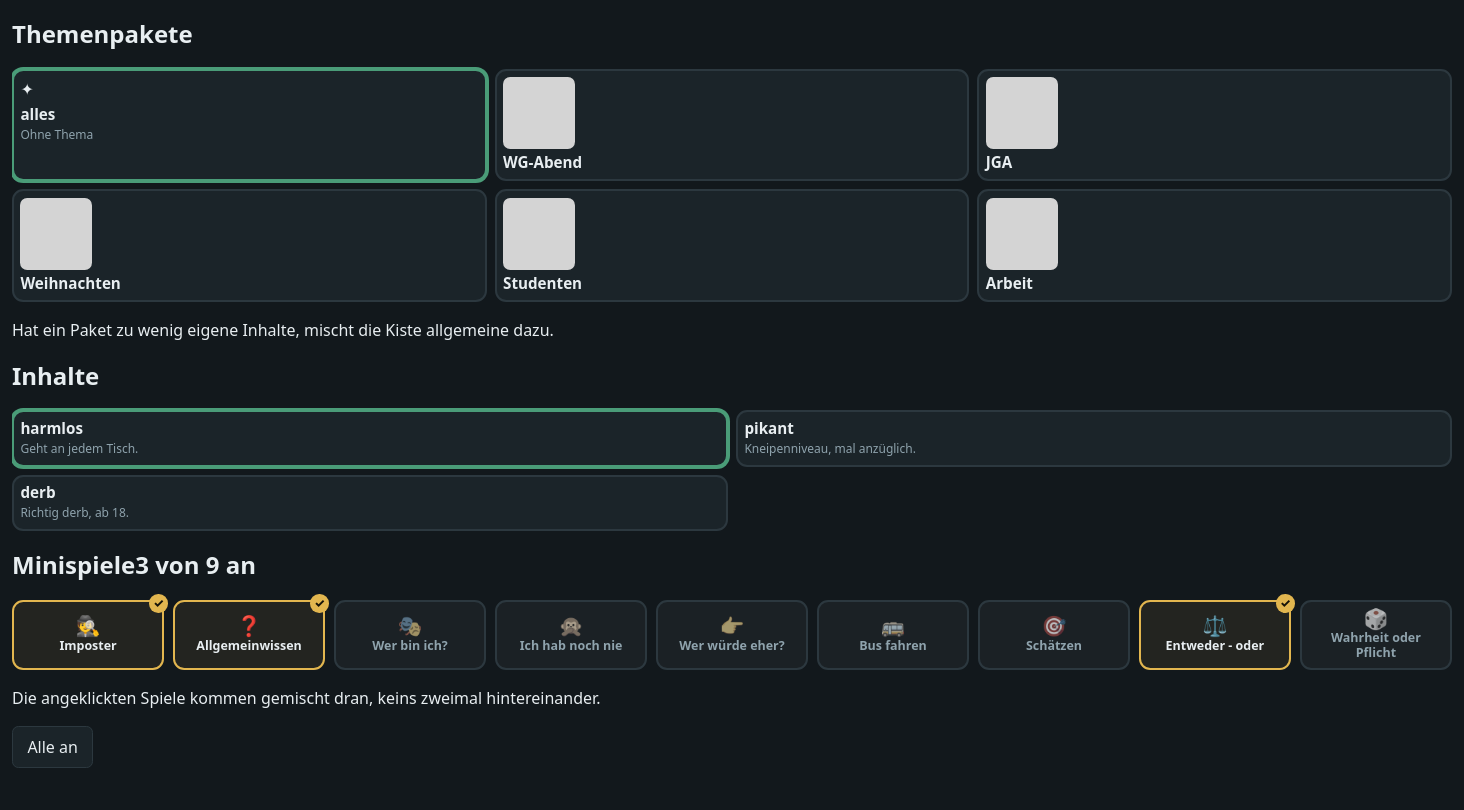
Auswahl im Menue der Partykiste › im neuen Hub bleibt unter drei die Kachel an, ein Hinweis sagt warum
Check: the element named "Minispiele" is shown, box [12,600,1452,670]
Click the button "❓ Allgemeinwissen ✓" at (249, 635), box [173,600,325,670]
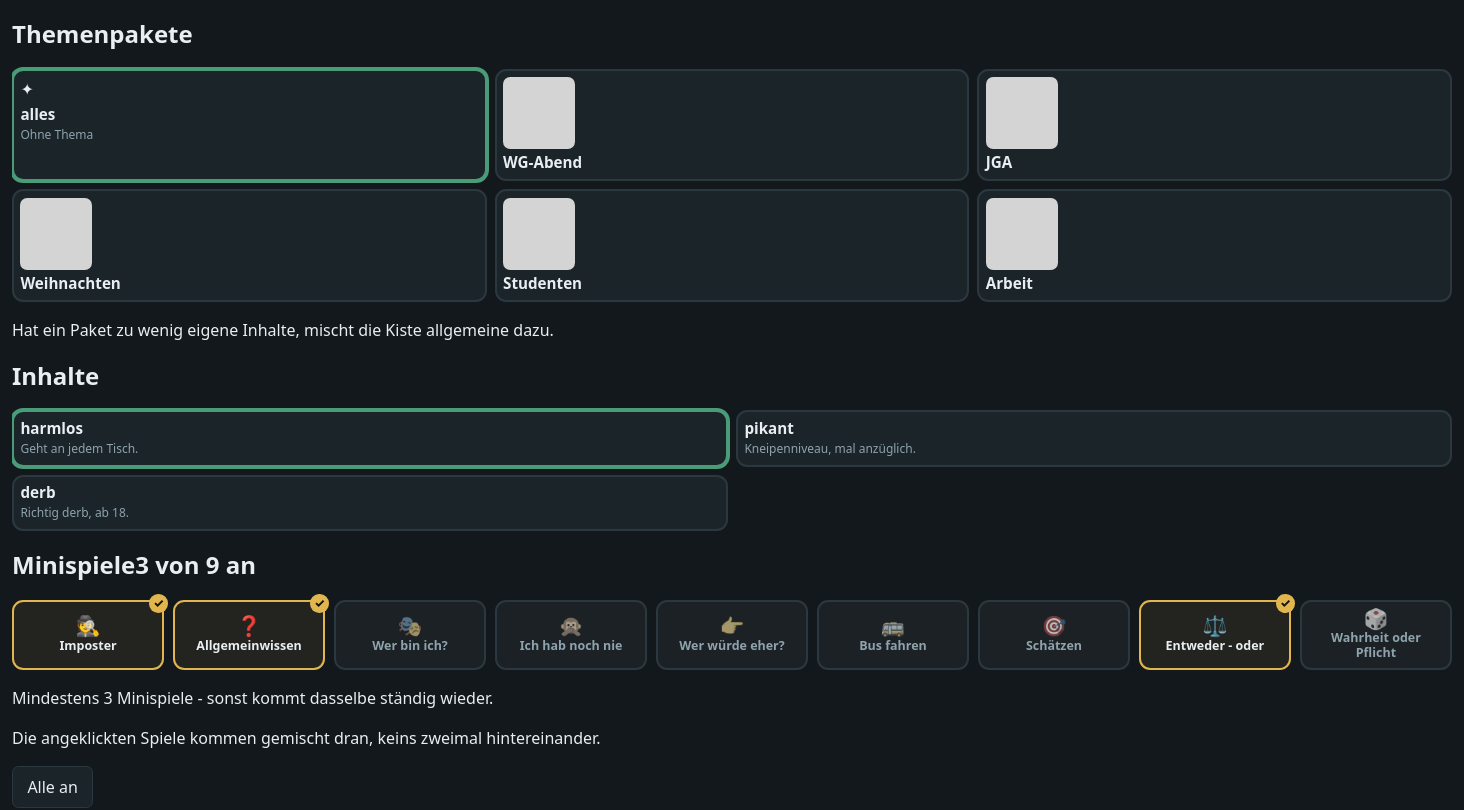
Check: the message shows "Mindestens 3", box [12,687,493,709]
